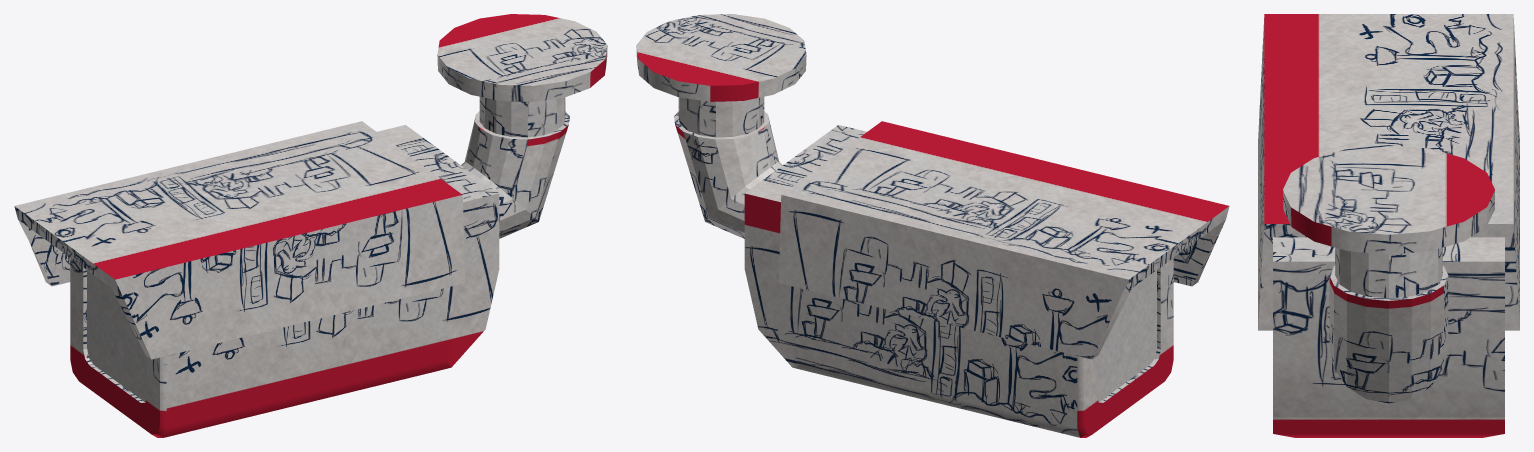
The model's file is cctv_Normal.fbx.
3 renders of one model, left to right at view 1: azimuth 30°, elevation 25°; view 2: azimuth 150°, elevation 25°; view 3: azimuth 270°, elevation 25°, orthographic. The views are drawn at different scales.
Parts seen in each view (by area): view 1: cctv_cameraman, cctv_cameraman_holder; view 2: cctv_cameraman, cctv_cameraman_holder; view 3: cctv_cameraman, cctv_cameraman_holder.
Part boxes in pixels (<box>): cctv_cameraman: <box>14,121,499,437</box>; cctv_cameraman_holder: <box>437,14,607,238</box>; cctv_cameraman: <box>744,121,1229,437</box>; cctv_cameraman_holder: <box>636,14,806,238</box>; cctv_cameraman: <box>1258,14,1519,437</box>; cctv_cameraman_holder: <box>1282,145,1495,403</box>.
Size of the model in its own units: 35.72 by 16.81 by 12.3.
